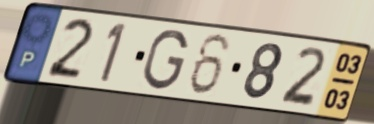1: (99, 21, 128, 85)
2: (45, 16, 97, 83), (277, 46, 327, 109)
6: (187, 32, 232, 98)
8: (241, 41, 285, 102)
G: (140, 27, 190, 92)
